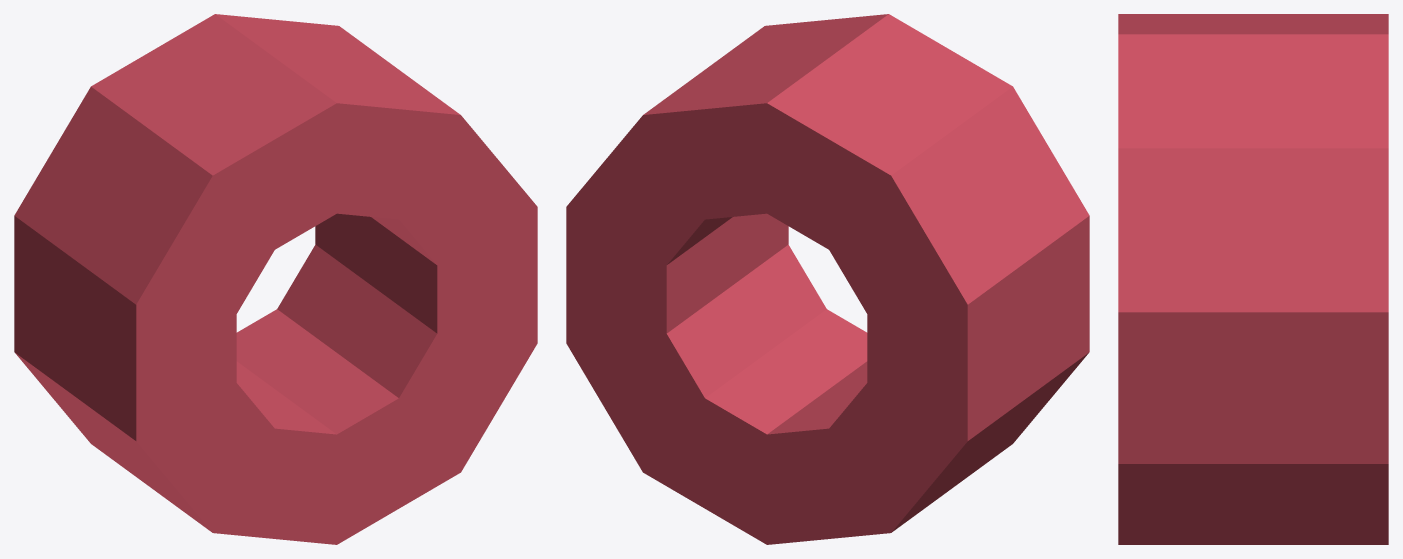
Rendered from wheel2.glb.
3 views of the same model, side by side, from view 1: azimuth 30°, elevation 25°; view 2: azimuth 150°, elevation 25°; view 3: azimuth 270°, elevation 25° (orthographic). The views are drawn at different scales.
Visible parts, largest first — view 1: Mesh_Mesh_head_geo.001_lambert2SG.001; view 2: Mesh_Mesh_head_geo.001_lambert2SG.001; view 3: Mesh_Mesh_head_geo.001_lambert2SG.001.
Part boxes in pixels (x1,y1,x2,y2): Mesh_Mesh_head_geo.001_lambert2SG.001: (14, 14, 537, 544); Mesh_Mesh_head_geo.001_lambert2SG.001: (566, 14, 1089, 544); Mesh_Mesh_head_geo.001_lambert2SG.001: (1118, 14, 1388, 544).
Bounding box in the file's own units: 0.0038 × 0.004 × 0.002.
